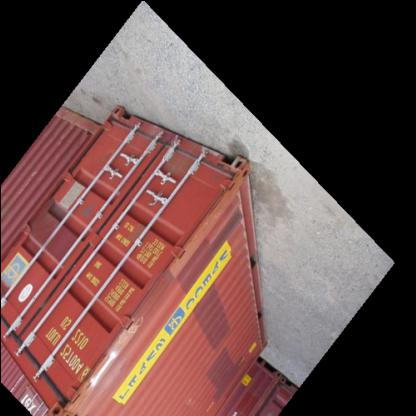Damage: (66, 318, 134, 413), (187, 158, 248, 240), (144, 126, 218, 174)
